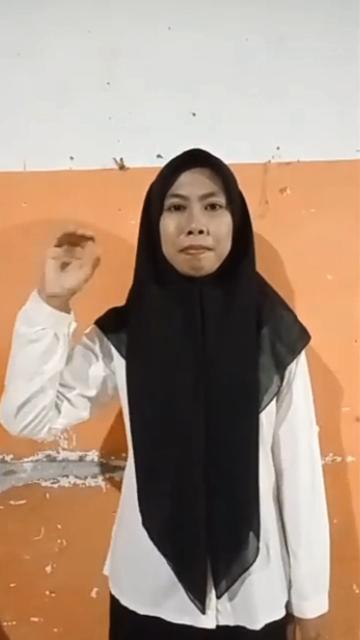O: (38, 224, 108, 304)
